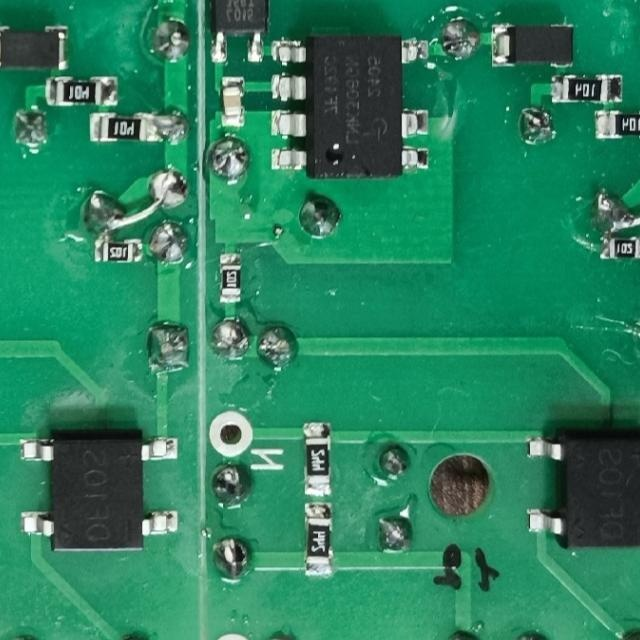chip-capacitor: (218, 75, 243, 129)
chip-resistor: (548, 72, 624, 104), (42, 76, 117, 108), (300, 420, 331, 497), (301, 502, 332, 578), (86, 111, 154, 142), (591, 108, 640, 140), (215, 250, 241, 306), (91, 237, 141, 265), (598, 235, 640, 261)
diode: (488, 22, 575, 70), (0, 23, 69, 73)
ic: (268, 35, 430, 181), (16, 432, 179, 556), (522, 428, 640, 551), (206, 0, 266, 66)
